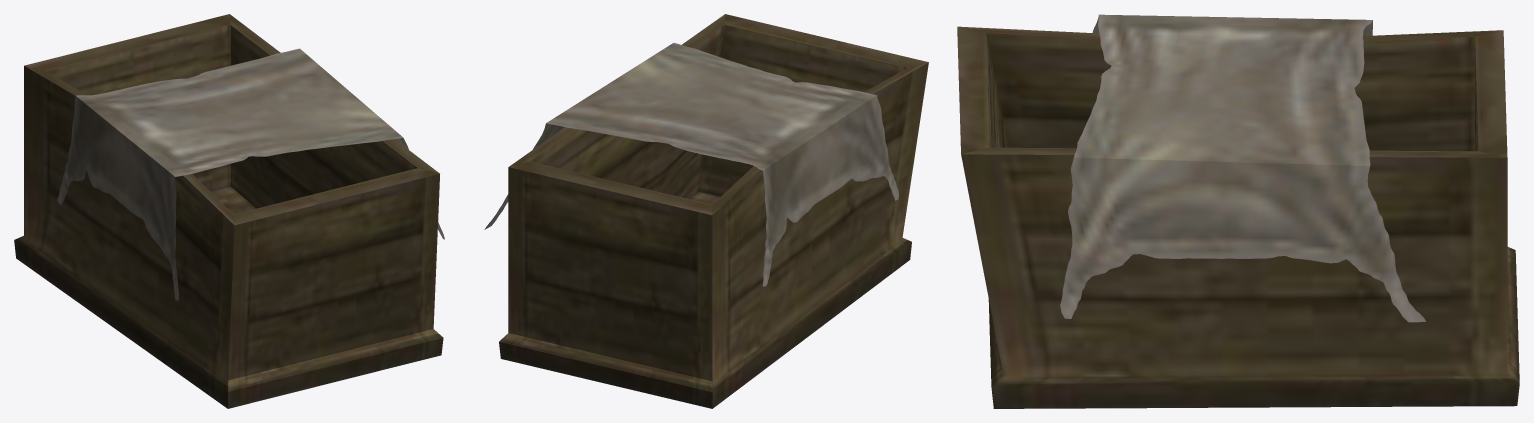
File: GYMA00109_27.FBX
3 renders of one model, left to right at view 1: azimuth 30°, elevation 25°; view 2: azimuth 150°, elevation 25°; view 3: azimuth 270°, elevation 25°, orthographic. The views are drawn at different scales.
Visible parts, largest first — view 1: MA00109_27; view 2: MA00109_27; view 3: MA00109_27.
Part boxes in pixels (left/top/right/bottom): MA00109_27: left=14, top=14, right=444, bottom=408; MA00109_27: left=484, top=14, right=928, bottom=408; MA00109_27: left=957, top=14, right=1519, bottom=408.
Size of the model in its own units: 1.07 by 0.7323 by 1.46.
